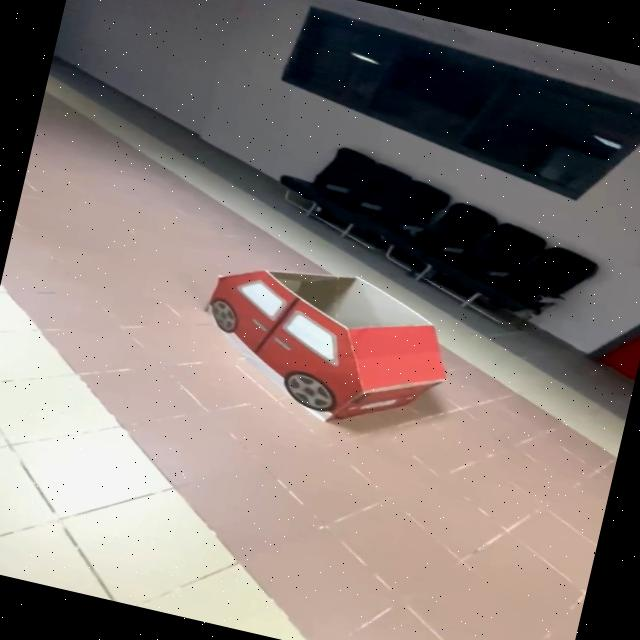red_car: (154, 229, 492, 461)
